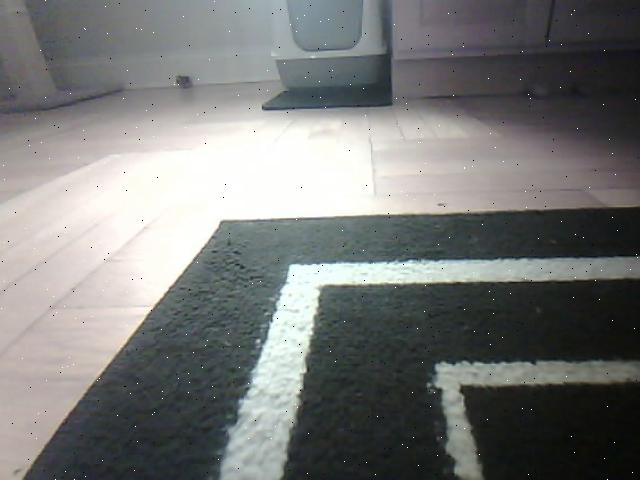curved-road-line: (280, 252, 640, 290), (433, 354, 640, 392)
road-line: (212, 285, 322, 480), (431, 362, 486, 480)
